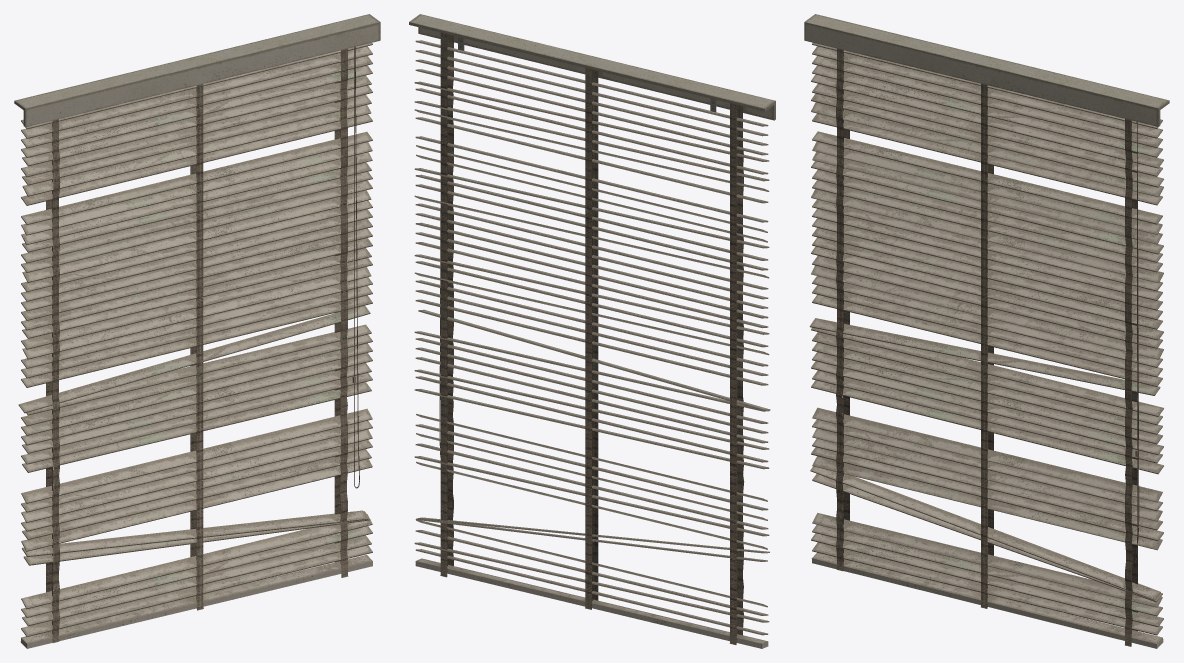
Rendered from JalousieB.fbx.
3 renders of one model, left to right at view 1: azimuth 30°, elevation 25°; view 2: azimuth 150°, elevation 25°; view 3: azimuth 330°, elevation 25°, orthographic.
Visible parts, largest first — view 1: JalousieB_LOD0; view 2: JalousieB_LOD0; view 3: JalousieB_LOD0.
Part boxes in pixels (<box>): JalousieB_LOD0: <box>14,14,380,648</box>; JalousieB_LOD0: <box>409,14,775,648</box>; JalousieB_LOD0: <box>804,14,1169,648</box>.
Size of what is drawn, in the model's own units: 130 by 192 by 7.85.
